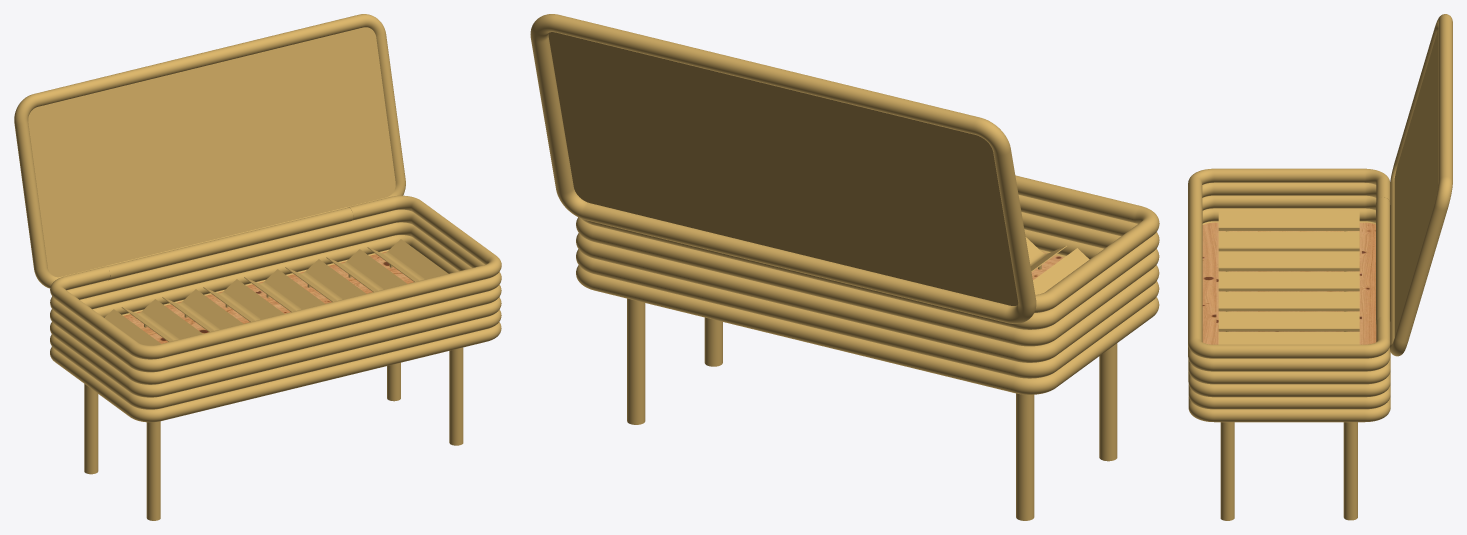
Rendered from polished-brass.glb.
3 renders of one model, left to right at view 1: azimuth 30°, elevation 25°; view 2: azimuth 150°, elevation 25°; view 3: azimuth 270°, elevation 25°, orthographic. The views are drawn at different scales.
Parts seen in each view (by area): view 1: COUVERCLE, N5.3 (×2), N5.1, Booléen, N5, N5.5, N5.4, charnière N2/N1, double fond, Cylindre.5, Extrusion.1, Extrusion.7 (+8 smaller); view 2: COUVERCLE, N5.3 (×2), N5, N5.5, N5.4, N5.1, Booléen, Cylindre.4, Cylindre.6, Cylindre.5, Extrusion, Cylindre.7; view 3: N5.3 (×2), Booléen, COUVERCLE, N5.1, double fond, N5, Extrusion.5, Extrusion.2, Extrusion.1, Extrusion.4, Extrusion.3, Extrusion (+6 smaller).
Boxes of the visible parts, bbox=[...] form: COUVERCLE: bbox=[28, 27, 395, 277]; N5.3 (×2): bbox=[14, 14, 501, 384]; N5.1: bbox=[50, 209, 501, 372]; Booléen: bbox=[50, 195, 501, 359]; N5: bbox=[50, 235, 501, 397]; N5.5: bbox=[50, 322, 501, 422]; N5.4: bbox=[50, 249, 501, 409]; charnière N2/N1: bbox=[106, 207, 353, 280]; double fond: bbox=[123, 251, 413, 343]; Cylindre.5: bbox=[146, 421, 160, 520]; Extrusion.1: bbox=[121, 299, 202, 341]; Extrusion.7: bbox=[367, 239, 448, 281]; COUVERCLE: bbox=[548, 32, 1018, 305]; N5.3 (×2): bbox=[530, 14, 1159, 346]; N5: bbox=[576, 229, 1159, 362]; N5.5: bbox=[576, 265, 1159, 394]; N5.4: bbox=[576, 249, 1159, 378]; N5.1: bbox=[582, 195, 1159, 329]; Booléen: bbox=[1015, 175, 1159, 313]; Cylindre.4: bbox=[1016, 393, 1034, 520]; Cylindre.6: bbox=[627, 298, 645, 424]; Cylindre.5: bbox=[1099, 343, 1117, 461]; Extrusion: bbox=[1033, 248, 1089, 294]; Cylindre.7: bbox=[704, 317, 722, 366]; N5.3 (×2): bbox=[1188, 14, 1452, 384]; Booléen: bbox=[1188, 168, 1390, 358]; COUVERCLE: bbox=[1394, 29, 1438, 336]; N5.1: bbox=[1188, 182, 1390, 371]; double fond: bbox=[1202, 222, 1376, 344]; N5: bbox=[1188, 208, 1390, 397]; Extrusion.5: bbox=[1218, 311, 1359, 331]; Extrusion.2: bbox=[1218, 251, 1359, 271]; Extrusion.1: bbox=[1218, 231, 1359, 251]; Extrusion.4: bbox=[1218, 291, 1359, 311]; Extrusion.3: bbox=[1218, 271, 1359, 291]; Extrusion: bbox=[1218, 211, 1359, 230].
Bounding box in the file's own units: 0.9155 × 0.8159 × 0.563.
2 materials, 1 textured.
